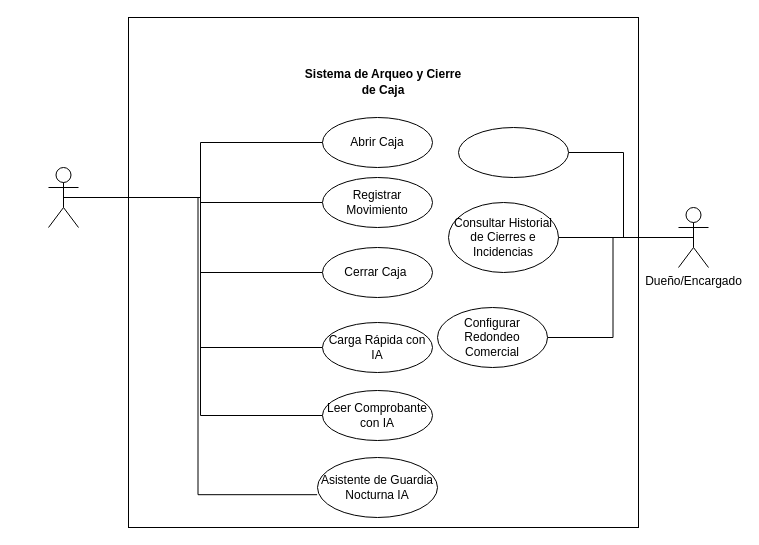
Some shapes in this 759 by 545 pixel diagram are drawn without their labels. Here are the shapes that lost their labels. From the top down, the box of each, then its label:
(458, 126, 568, 178): Anular Movimiento
(48, 166, 78, 228): Cajero/Mostrador
